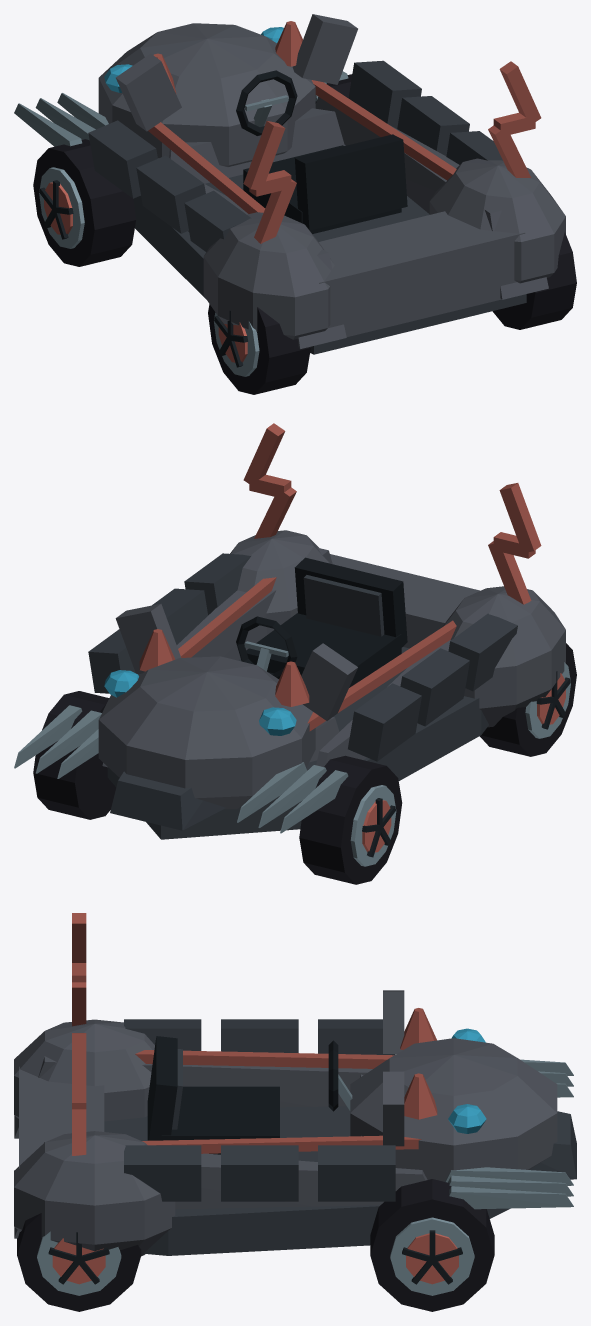
Rendered from kart.glb.
3 renders of one model, top to bottom at view 1: azimuth 30°, elevation 25°; view 2: azimuth 150°, elevation 25°; view 3: azimuth 270°, elevation 25°, orthographic.
Visible parts, largest first — view 1: identity-beast-beast-sculpted-prow-and-haunches, identity-beast-motif-armor, identity-beast-driver-cockpit, wheel-front-left, identity-beast-motif-electric, wheel-rear-left, wheel-rear-right, identity-beast-motif-claws; view 2: identity-beast-beast-sculpted-prow-and-haunches, identity-beast-motif-armor, identity-beast-driver-cockpit, wheel-front-left, identity-beast-motif-claws, identity-beast-motif-electric, wheel-front-right, wheel-rear-left; view 3: identity-beast-beast-sculpted-prow-and-haunches, identity-beast-motif-armor, wheel-front-right, identity-beast-driver-cockpit, wheel-rear-right, identity-beast-motif-claws, identity-beast-motif-electric.
Boxes of the visible parts, x1,y1,x2,y2 form: identity-beast-beast-sculpted-prow-and-haunches: (98,14,565,354); identity-beast-motif-armor: (88,60,502,251); identity-beast-driver-cockpit: (236,70,407,233); wheel-front-left: (33,139,136,266); identity-beast-motif-electric: (243,61,541,243); wheel-rear-left: (208,304,310,394); wheel-rear-right: (492,232,576,329); identity-beast-motif-claws: (14,71,348,146); identity-beast-beast-sculpted-prow-and-haunches: (98,530,565,839); identity-beast-motif-armor: (88,553,517,761); identity-beast-driver-cockpit: (236,557,407,687); wheel-front-left: (299,755,402,884); identity-beast-motif-claws: (14,705,348,833); identity-beast-motif-electric: (243,423,541,604); wheel-front-right: (33,691,116,819); wheel-rear-left: (479,643,576,756); identity-beast-beast-sculpted-prow-and-haunches: (14,990,576,1256); identity-beast-motif-armor: (124,1019,395,1201); wheel-front-right: (370,1179,494,1311); identity-beast-driver-cockpit: (147,1036,352,1154); wheel-rear-right: (17,1213,141,1311); identity-beast-motif-claws: (445,1059,573,1209); identity-beast-motif-electric: (72,913,86,1155).
Size of the model in its own units: 2.01 by 1.49 by 2.9.
